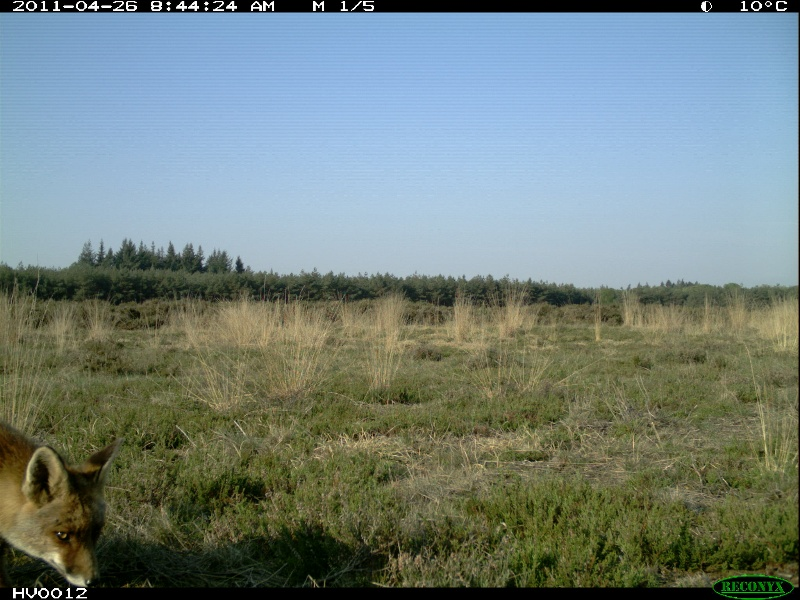fox: (1, 408, 120, 586)
